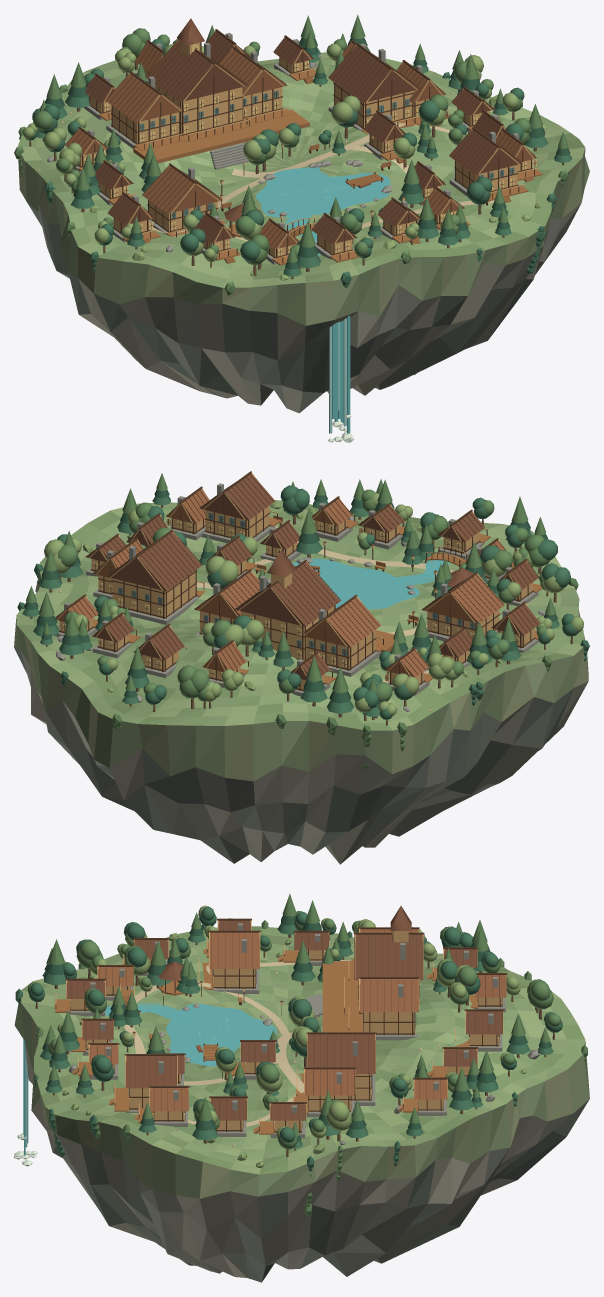
The model's file is suifu-island_192_lite.glb.
3 renders of one model, top to bottom at view 1: azimuth 30°, elevation 25°; view 2: azimuth 150°, elevation 25°; view 3: azimuth 270°, elevation 25°, orthographic. The views are drawn at different scales.
Parts seen in each view (by area): view 1: Floating_rock_base, Meadow_surface, architecture_roof, architecture_timber, architecture_lightwood, vegetation_leaf2, vegetation_leaf1, architecture_roof2, vegetation_leaf3, water_water, architecture_wood, vegetation_leaf4 (+7 smaller); view 2: Floating_rock_base, Meadow_surface, architecture_roof, vegetation_leaf2, architecture_timber, architecture_lightwood, vegetation_leaf1, architecture_roof2, vegetation_leaf3, architecture_stone, vegetation_leaf4, water_water (+6 smaller); view 3: Floating_rock_base, Meadow_surface, architecture_roof, vegetation_leaf2, vegetation_leaf1, architecture_roof2, architecture_timber, architecture_lightwood, architecture_wood, water_water, vegetation_leaf3, architecture_stone (+4 smaller).
Boxes of the visible parts, <box> form: Floating_rock_base: <box>18,148,589,413</box>; Meadow_surface: <box>18,52,584,287</box>; architecture_roof: <box>85,18,522,244</box>; architecture_timber: <box>65,29,536,263</box>; architecture_lightwood: <box>78,30,539,257</box>; vegetation_leaf2: <box>14,14,568,295</box>; vegetation_leaf1: <box>25,39,572,287</box>; architecture_roof2: <box>65,42,536,249</box>; vegetation_leaf3: <box>22,43,546,280</box>; water_water: <box>256,167,390,433</box>; architecture_wood: <box>78,68,542,265</box>; vegetation_leaf4: <box>45,37,570,269</box>; Floating_rock_base: <box>14,572,588,864</box>; Meadow_surface: <box>16,500,584,730</box>; architecture_roof: <box>86,473,540,680</box>; vegetation_leaf2: <box>26,473,578,768</box>; architecture_timber: <box>55,471,540,690</box>; architecture_lightwood: <box>57,472,539,691</box>; vegetation_leaf1: <box>17,485,589,719</box>; architecture_roof2: <box>55,489,506,677</box>; vegetation_leaf3: <box>44,492,583,715</box>; architecture_stone: <box>54,483,539,696</box>; vegetation_leaf4: <box>24,489,557,708</box>; water_water: <box>292,558,449,609</box>; Floating_rock_base: <box>14,999,589,1282</box>; Meadow_surface: <box>21,926,585,1174</box>; architecture_roof: <box>66,906,502,1120</box>; vegetation_leaf2: <box>27,893,587,1216</box>; vegetation_leaf1: <box>15,907,562,1171</box>; architecture_roof2: <box>89,929,505,1111</box>; architecture_timber: <box>55,918,507,1132</box>; architecture_lightwood: <box>55,920,506,1132</box>; architecture_wood: <box>53,942,478,1134</box>; water_water: <box>23,1003,276,1155</box>; vegetation_leaf3: <box>47,905,528,1167</box>; architecture_stone: <box>69,923,505,1138</box>.
Size of the model in its own units: 192 by 112 by 192.
